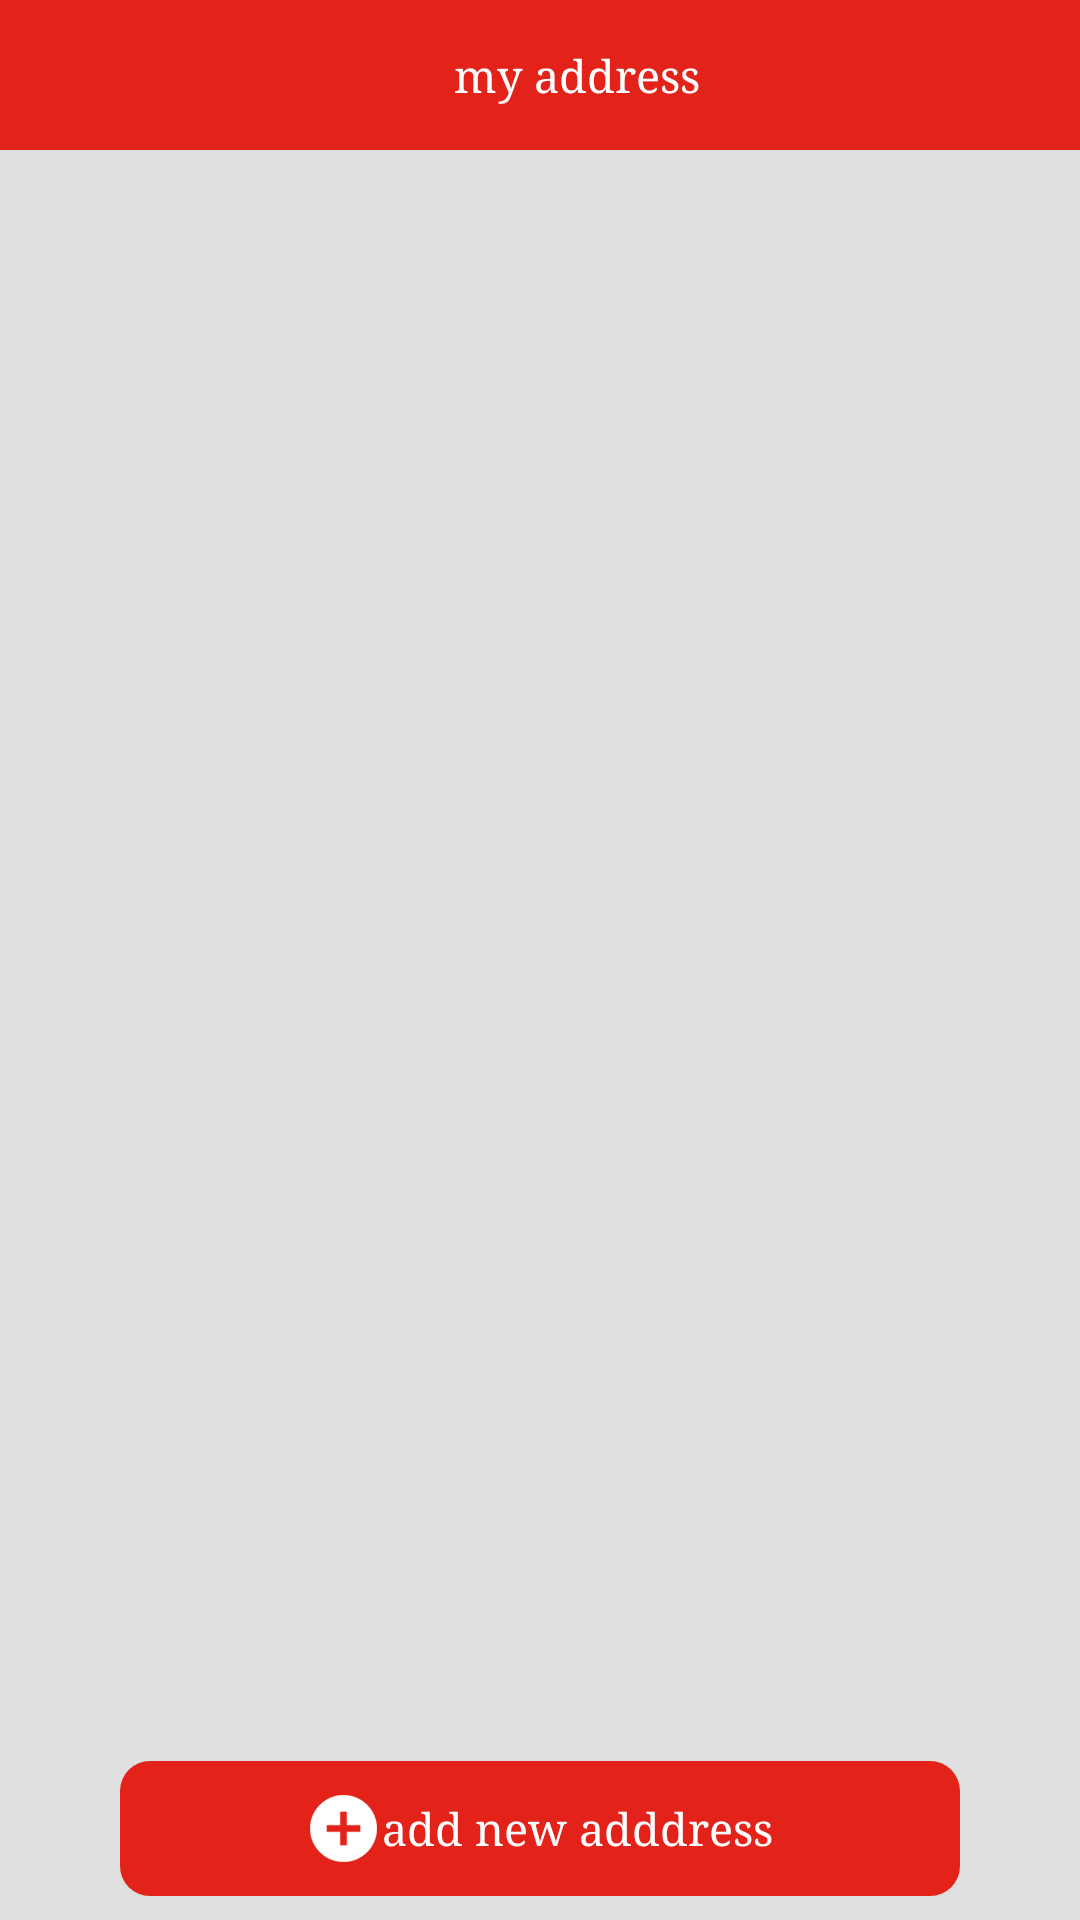

Where to tap for icons on this 1080px×1920px app screen, as (x=x, y=y):
incremental: (x=343, y=1828)
